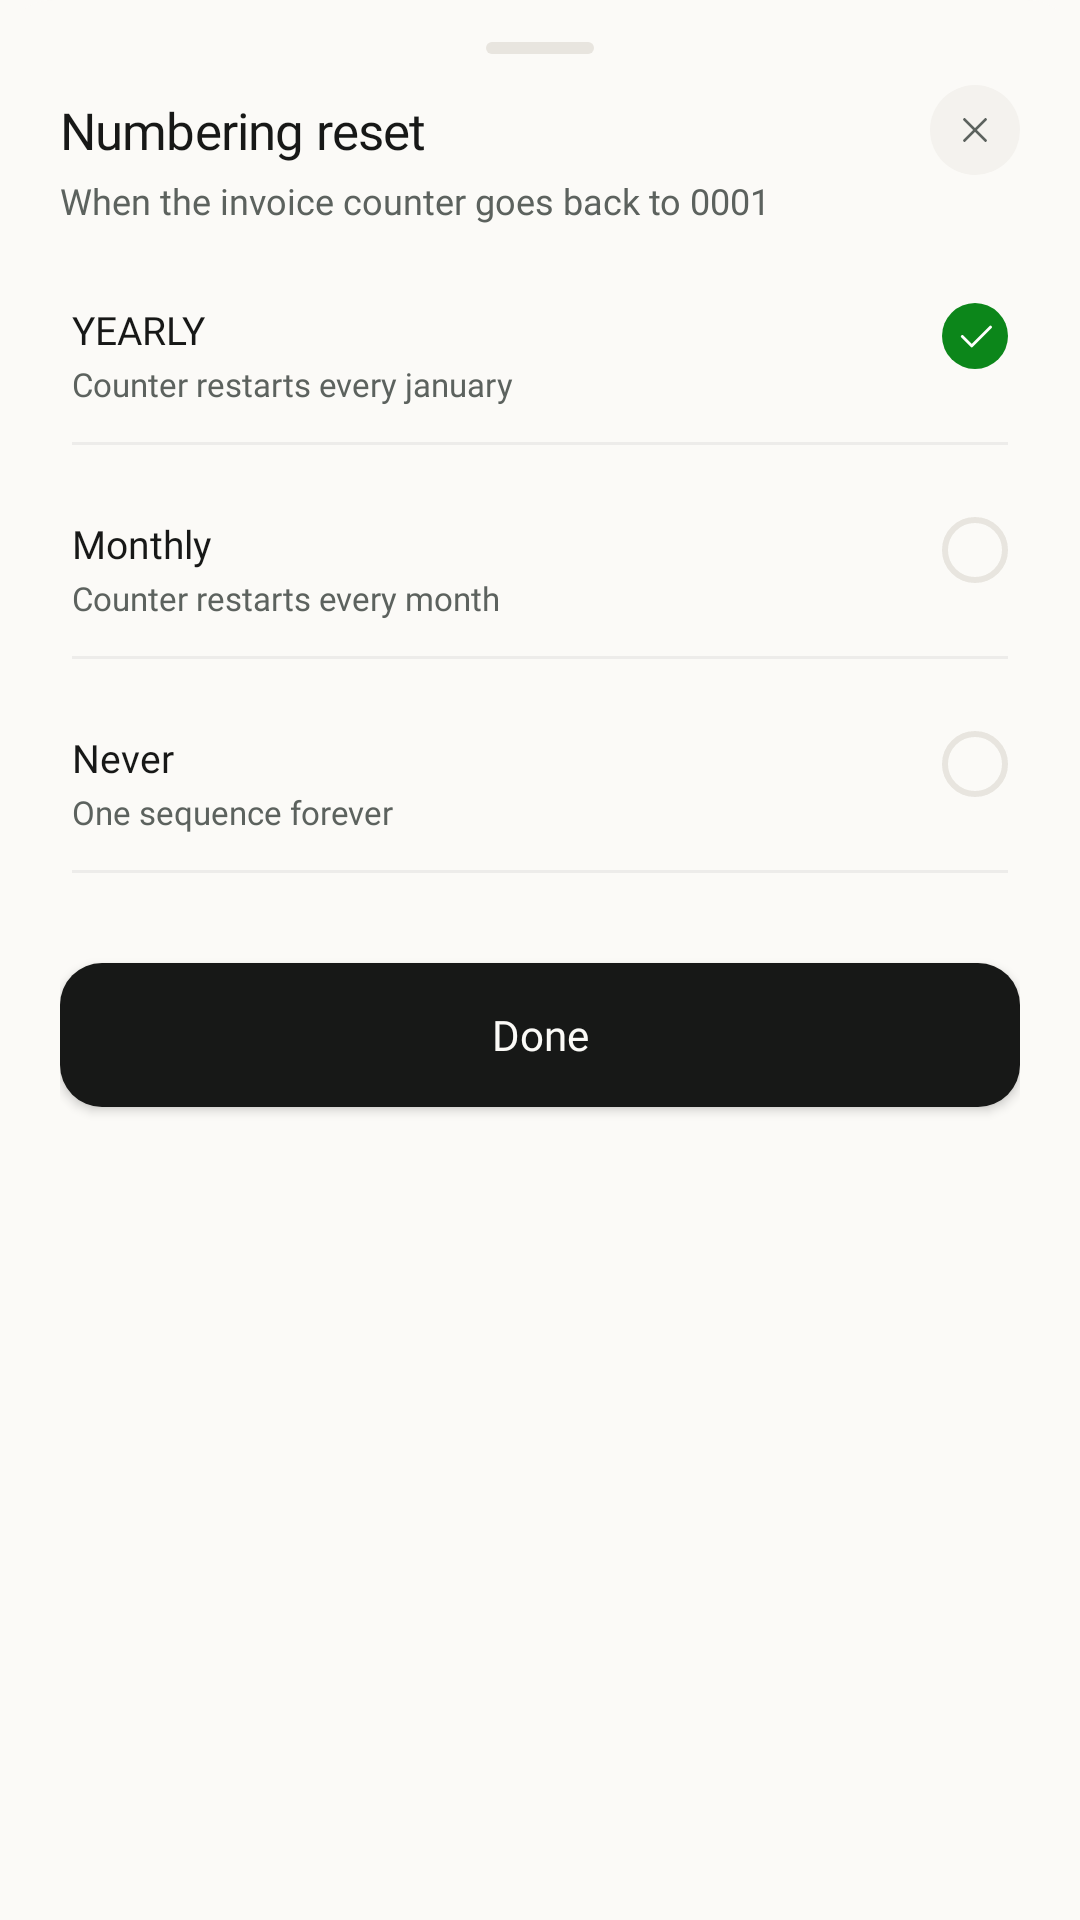

Icon bounding boxes for this 1080 x 1920 phone screenshot, format (x1, y1, x2, y2):
close: (930, 85, 1020, 175)
